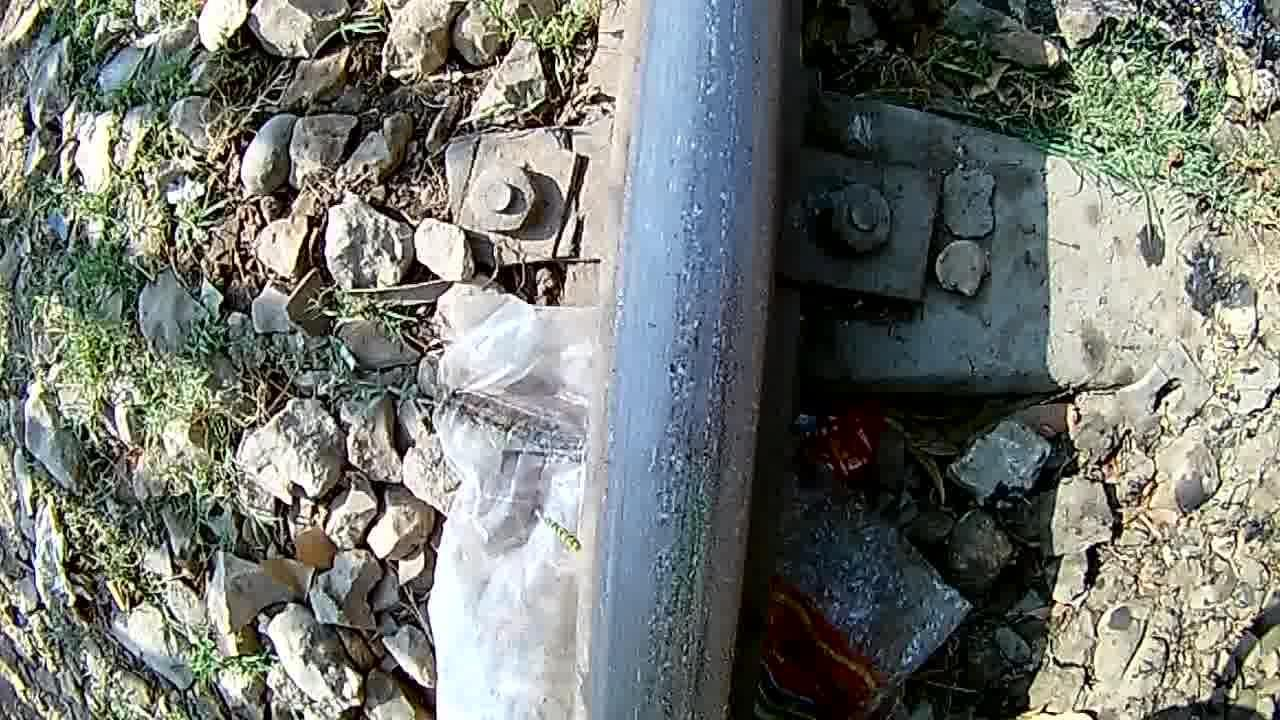crack: (631, 0, 760, 719)
